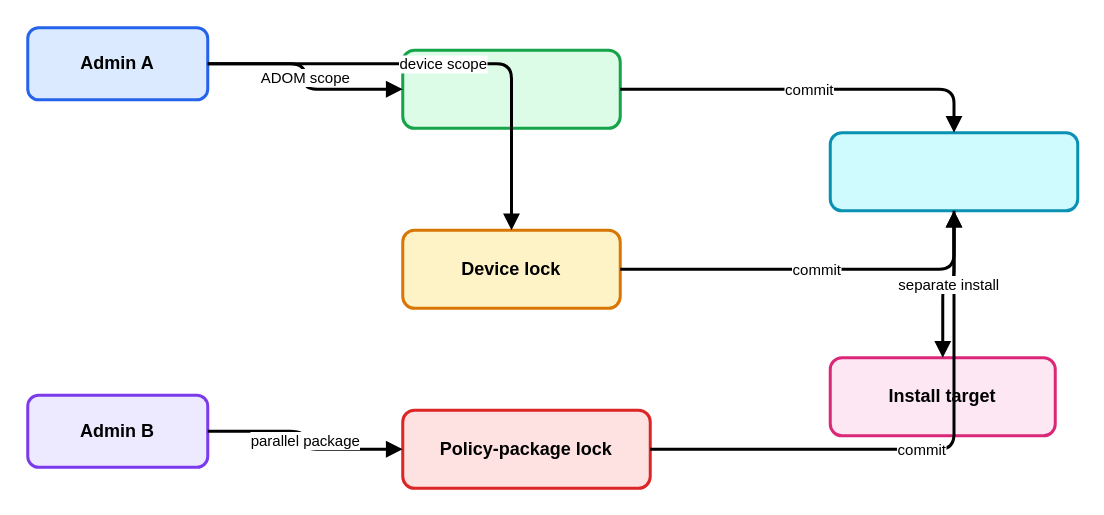
Image size: 1104x515. Some labels were removed from this diagram. Each missing label, with the centre of its shape:
"ADOM lock" goes at pixel 510 88.
"Commit workspace" goes at pixel 953 171.
